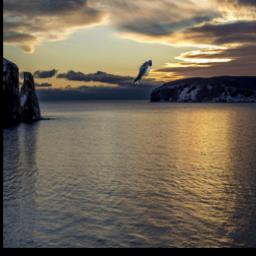Swallow: (133, 60, 153, 84)
